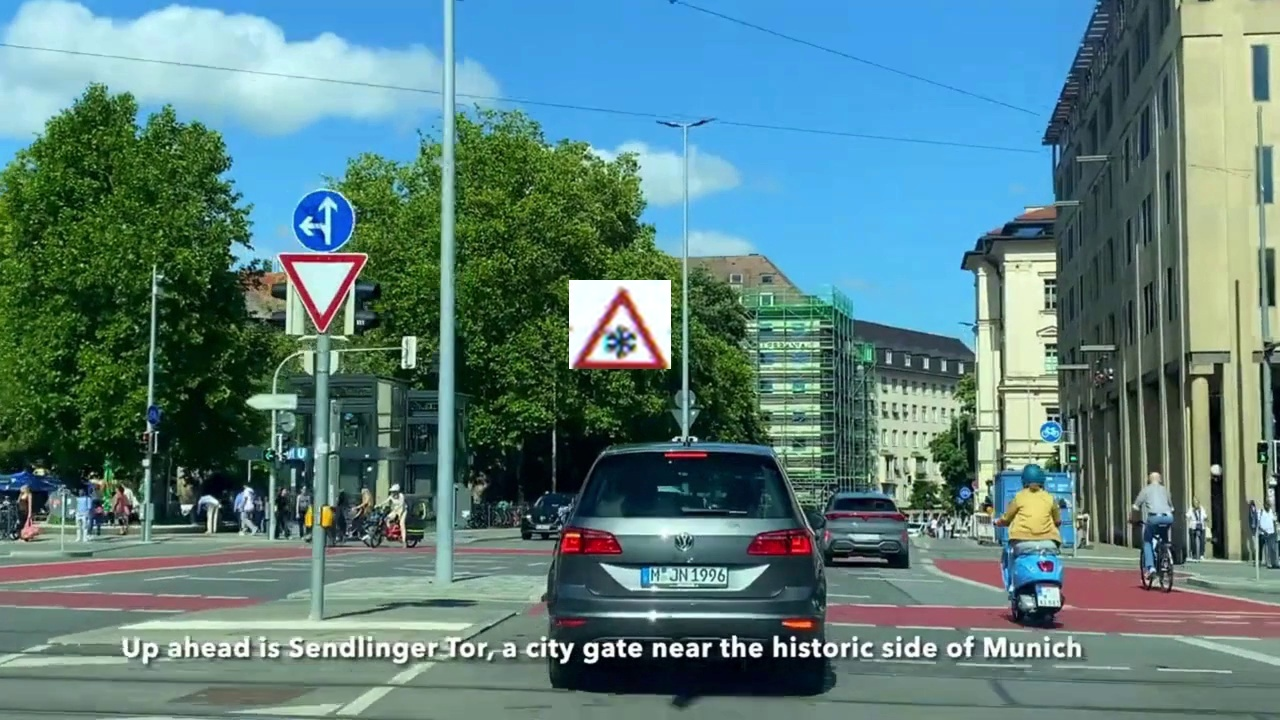Ice/snow: (569, 280, 671, 369)
